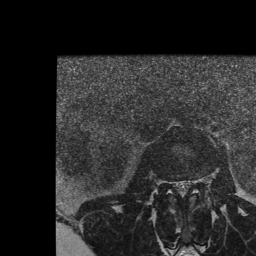CCS_normal: (178, 174, 185, 202)
LFS_severe_stenosis: (192, 171, 200, 193)
LLS_normal: (185, 173, 192, 195)
RFS_severe_stenosis: (164, 171, 172, 192)
RLS_normal: (171, 174, 178, 196)
